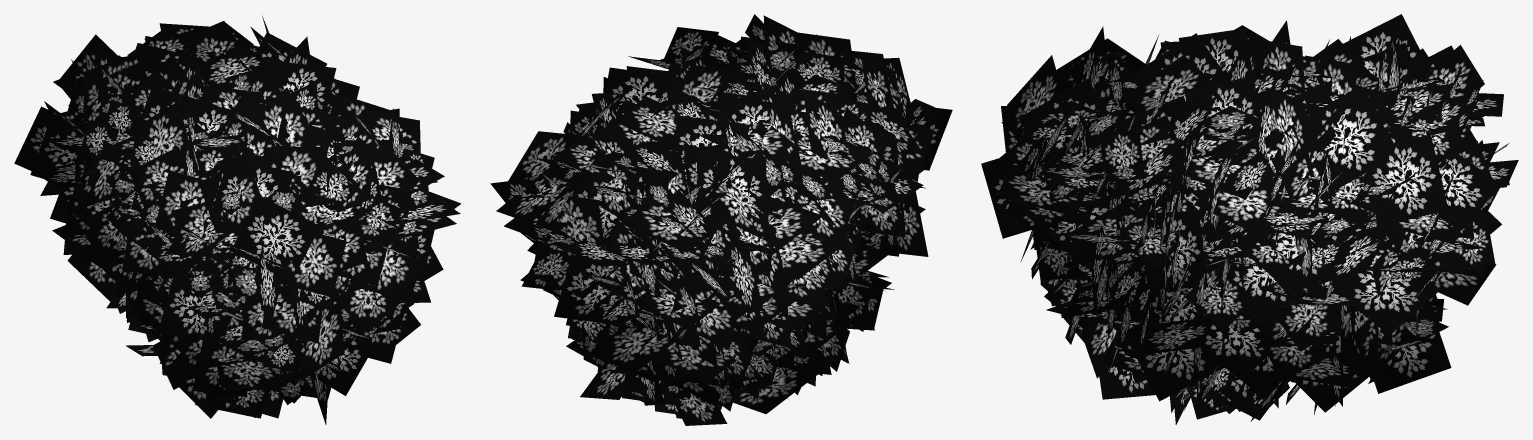
Rendered from SM_Bush_03.glb.
3 views of the same model, side by side, from view 1: azimuth 30°, elevation 25°; view 2: azimuth 150°, elevation 25°; view 3: azimuth 270°, elevation 25° (orthographic). The views are drawn at different scales.
Visible parts, largest first — view 1: SM_Bush_03_LOD0; view 2: SM_Bush_03_LOD0; view 3: SM_Bush_03_LOD0.
Part boxes in pixels (left/top/right/bottom): SM_Bush_03_LOD0: left=14, top=16, right=461, bottom=424; SM_Bush_03_LOD0: left=490, top=14, right=952, bottom=425; SM_Bush_03_LOD0: left=981, top=14, right=1518, bottom=424.
Bounding box in the file's own units: 2.88 × 3.07 × 4.14.
1 material, 1 textured.
